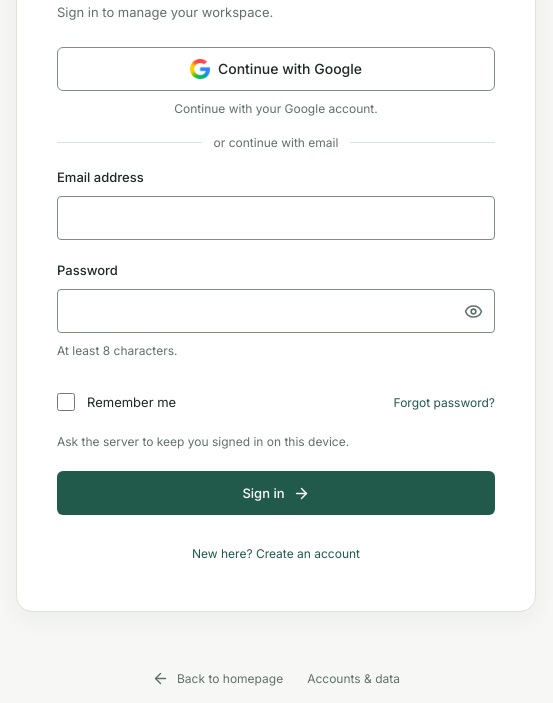
authentication screens › connects translated errors to invalid form fields
The image size is (553, 703).
(page scrolled)
Click the button "Sign in" at [276, 493], box [57,471,495,515]
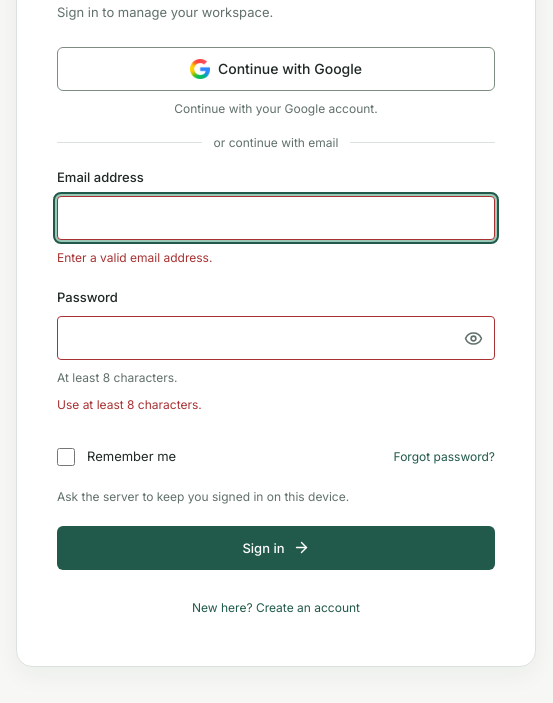
Expected: the text "Enter a valid email address." is shown, [57,250,212,265]
